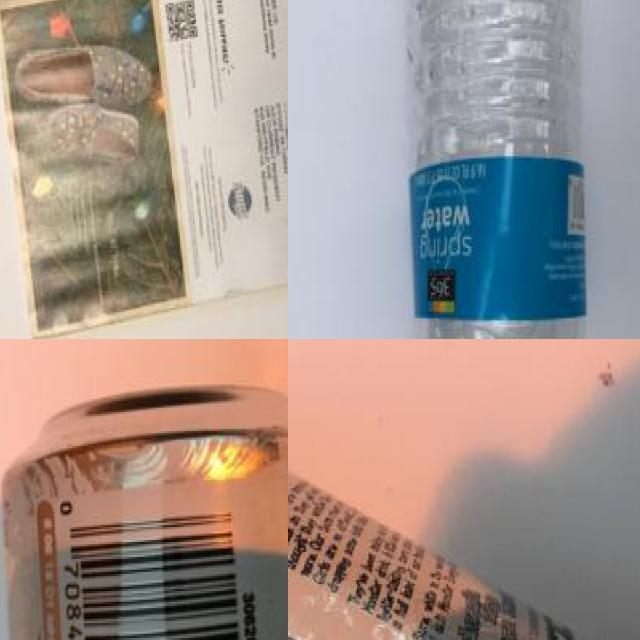paper: (0, 0, 288, 339)
plastic: (288, 419, 640, 640), (0, 390, 288, 640), (402, 0, 610, 339)
